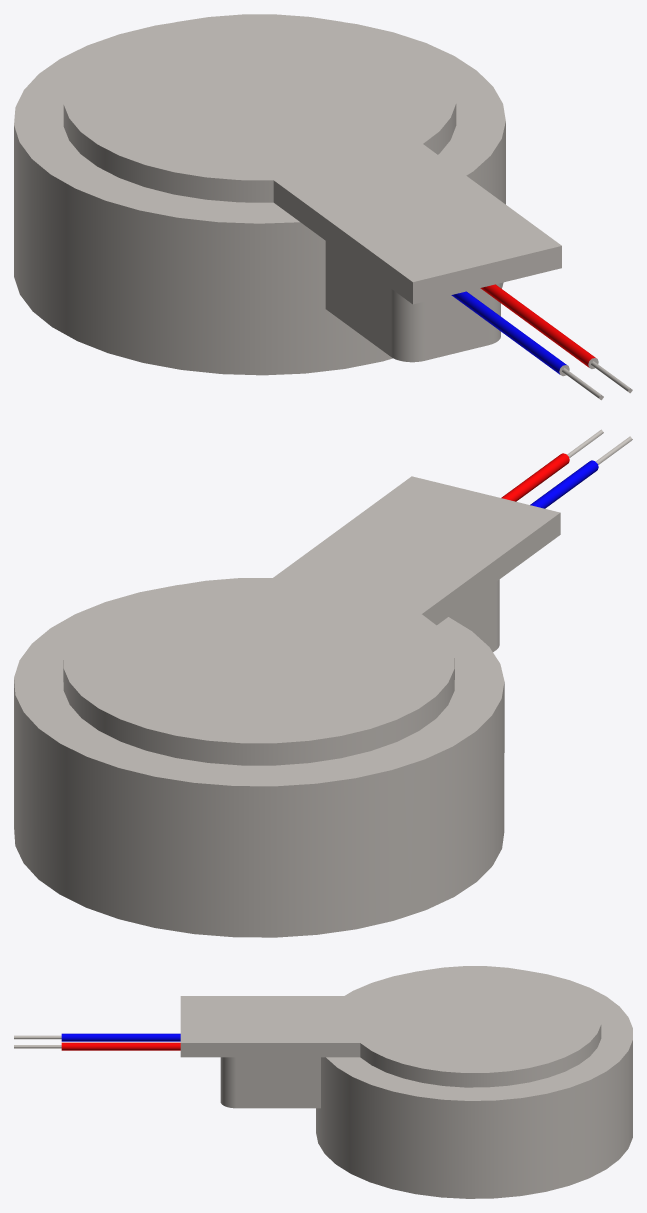
Rendered from LRA_scaled.obj.
3 views of the same model, one above another, from view 1: azimuth 30°, elevation 25°; view 2: azimuth 150°, elevation 25°; view 3: azimuth 270°, elevation 25° (orthographic). The views are drawn at different scales.
Parts seen in each view (by area): view 1: L.R.A_Design; view 2: L.R.A_Design; view 3: L.R.A_Design.
Part boxes in pixels (<box>): L.R.A_Design: <box>14,14,632,400</box>; L.R.A_Design: <box>14,429,632,937</box>; L.R.A_Design: <box>14,966,632,1198</box>.
Size of the model in its own units: 1.25 by 0.5188 by 2.44.
